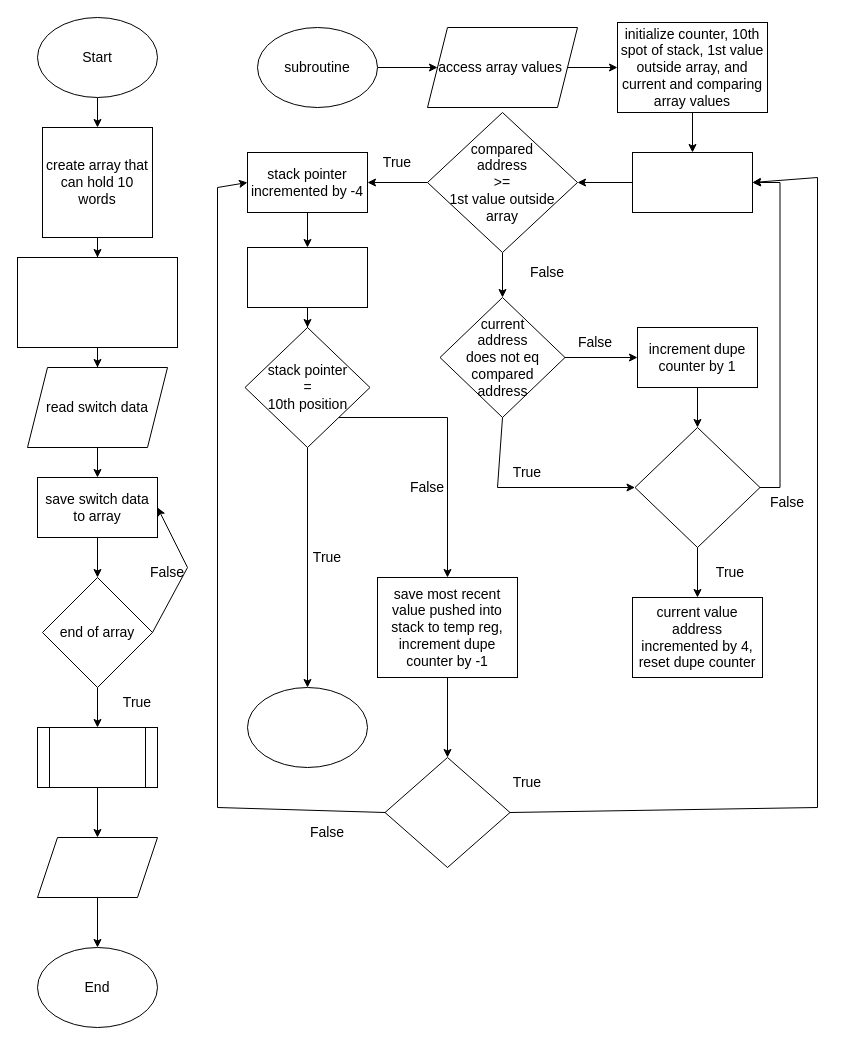
The diagram is 843 pixels wide and 1045 high, and some of its shapes have lost their labels. The shapes that lost their labels are listed below. From the top down, each one's box as (x1, y1, x2, y2) in pixels, then its label:
(632, 152, 752, 212): increment compared address by 4
(246, 246, 368, 308): load current value into stack
(16, 256, 178, 348): initialize switch, stack pointer, top of stack, and array address
(634, 426, 760, 548): current address = values in stack
(246, 686, 368, 768): return value
(36, 726, 158, 788): call subroutine
(384, 756, 510, 868): dupe counter = 0
(36, 836, 158, 898): output to LEDs
